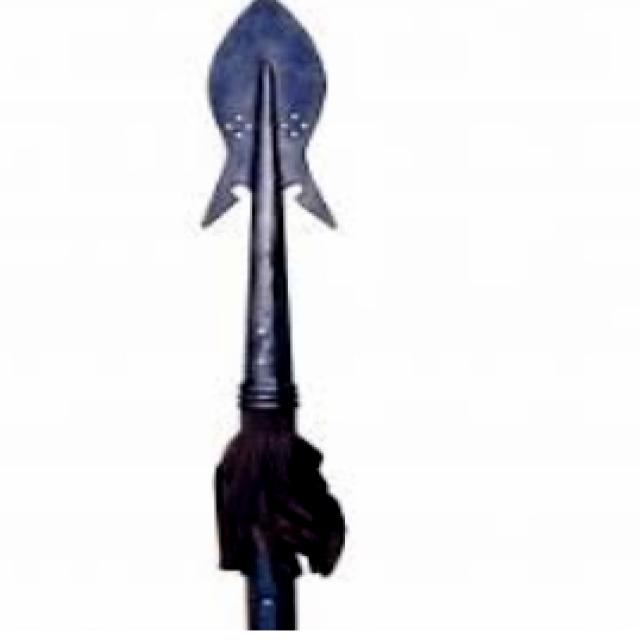spear: (172, 0, 374, 634)
